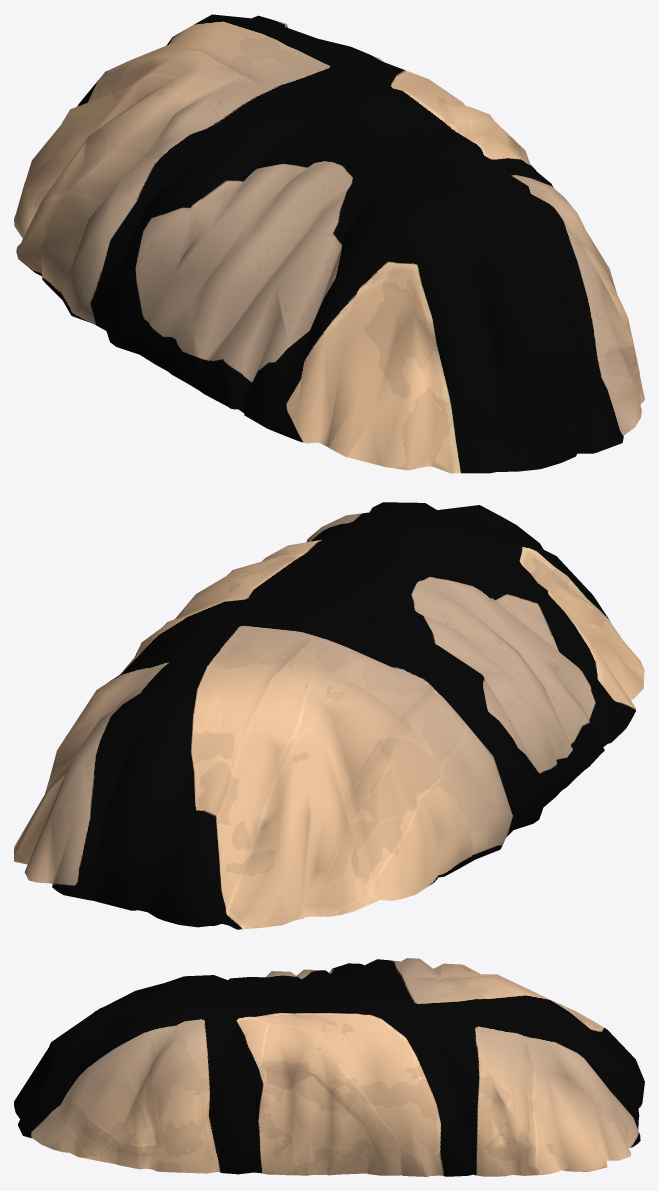
Rendered from Slope_1.fbx.
3 views of the same model, one above another, from view 1: azimuth 30°, elevation 25°; view 2: azimuth 150°, elevation 25°; view 3: azimuth 270°, elevation 25° (orthographic). The views are drawn at different scales.
Visible parts, largest first — view 1: Slope_1_LOD0; view 2: Slope_1_LOD0; view 3: Slope_1_LOD0.
Boxes of the visible parts, x1=… form: Slope_1_LOD0: x1=14, y1=14, x2=644, y2=473; Slope_1_LOD0: x1=14, y1=502, x2=644, y2=929; Slope_1_LOD0: x1=14, y1=958, x2=644, y2=1176.
Size of what is drawn, in the model's own units: 214 by 90.01 by 402.
